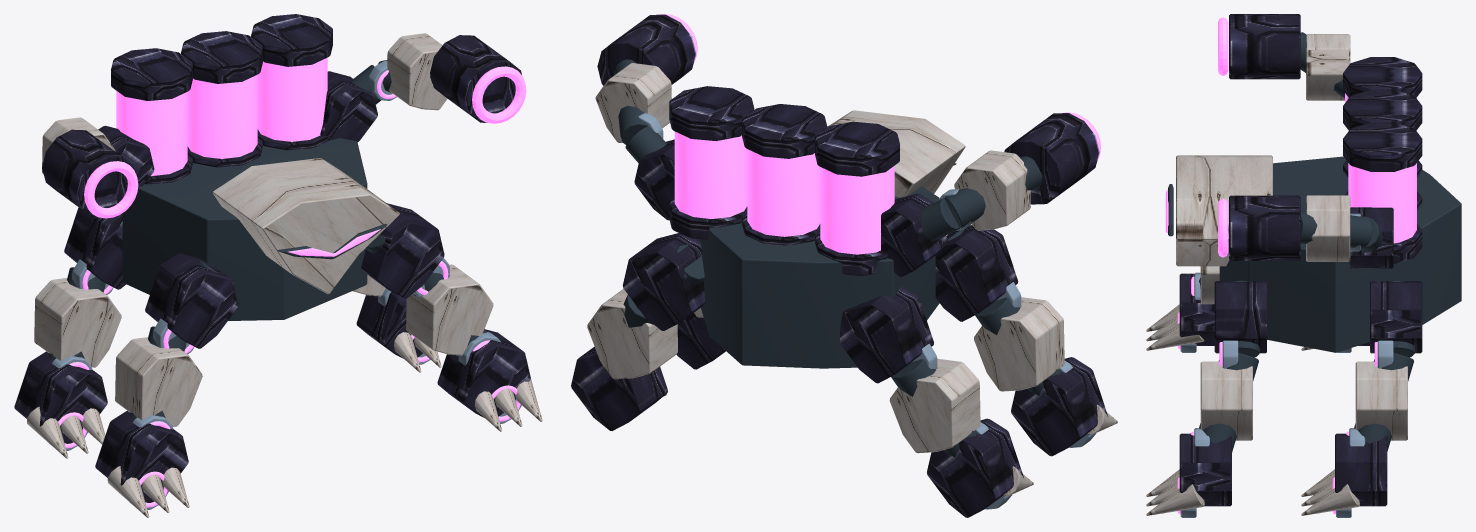
Rendered from omega_chimera.glb.
3 renders of one model, left to right at view 1: azimuth 30°, elevation 25°; view 2: azimuth 150°, elevation 25°; view 3: azimuth 270°, elevation 25°, orthographic. The views are drawn at different scales.
Visible parts, largest first — view 1: Chimera dorsal frame, Overlapping segment carapace, Overlapping segment carapace.001, Recessed V optic, Wedge beast skull, Reservoir clamp, Overlapping segment carapace.008, Overlapping segment carapace.009, Overlapping segment carapace.014, Overlapping segment carapace.006, Overlapping segment carapace.015, Joint power collar.014 (+6 smaller); view 2: Overlapping segment carapace, Chimera dorsal frame, Recessed V optic, Reservoir clamp, Overlapping segment carapace.001, Overlapping segment carapace.008, Overlapping segment carapace.006, Overlapping segment carapace.014, Overlapping segment carapace.009, Wedge beast skull, Overlapping segment carapace.007, Overlapping segment carapace.015 (+5 smaller); view 3: Chimera dorsal frame, Overlapping segment carapace.008, Overlapping segment carapace.009, Reservoir clamp, Wedge beast skull, Overlapping segment carapace.014, Overlapping segment carapace.006, Recessed V optic, Overlapping segment carapace.015, Overlapping segment carapace.007, Articulated hydraulic link.008, Overlapping segment carapace.001 (+6 smaller).
Boxes of the visible parts, <box> form: Chimera dorsal frame: <box>121,138,386,320</box>; Overlapping segment carapace: <box>14,207,238,502</box>; Overlapping segment carapace.001: <box>27,278,202,517</box>; Recessed V optic: <box>116,57,380,256</box>; Wedge beast skull: <box>213,158,399,293</box>; Reservoir clamp: <box>111,14,332,184</box>; Overlapping segment carapace.008: <box>356,203,530,417</box>; Overlapping segment carapace.009: <box>352,264,542,431</box>; Overlapping segment carapace.014: <box>320,35,521,142</box>; Overlapping segment carapace.006: <box>42,125,154,217</box>; Overlapping segment carapace.015: <box>387,33,447,110</box>; Joint power collar.014: <box>377,66,526,123</box>; Overlapping segment carapace: <box>840,225,1107,517</box>; Chimera dorsal frame: <box>696,163,956,368</box>; Recessed V optic: <box>674,131,894,254</box>; Reservoir clamp: <box>669,86,899,276</box>; Overlapping segment carapace.001: <box>889,297,1117,496</box>; Overlapping segment carapace.008: <box>571,233,725,430</box>; Overlapping segment carapace.006: <box>881,113,1099,276</box>; Overlapping segment carapace.014: <box>597,14,695,220</box>; Overlapping segment carapace.009: <box>587,289,703,396</box>; Wedge beast skull: <box>827,110,965,197</box>; Overlapping segment carapace.007: <box>954,150,1030,230</box>; Overlapping segment carapace.015: <box>595,63,671,142</box>; Chimera dorsal frame: <box>1168,156,1461,352</box>; Overlapping segment carapace.008: <box>1179,281,1422,506</box>; Overlapping segment carapace.009: <box>1146,361,1407,515</box>; Reservoir clamp: <box>1343,57,1422,263</box>; Wedge beast skull: <box>1176,155,1272,266</box>; Overlapping segment carapace.014: <box>1229,195,1393,268</box>; Overlapping segment carapace.006: <box>1229,14,1300,79</box>; Recessed V optic: <box>1165,97,1416,243</box>; Overlapping segment carapace.015: <box>1306,195,1350,261</box>; Overlapping segment carapace.007: <box>1306,34,1350,100</box>; Articulated hydraulic link.008: <box>1199,280,1415,500</box>; Overlapping segment carapace.001: <box>1146,266,1313,350</box>.
Bounding box in the file's own units: 3.32 × 2.43 × 2.12.
5 materials, 2 textured.
